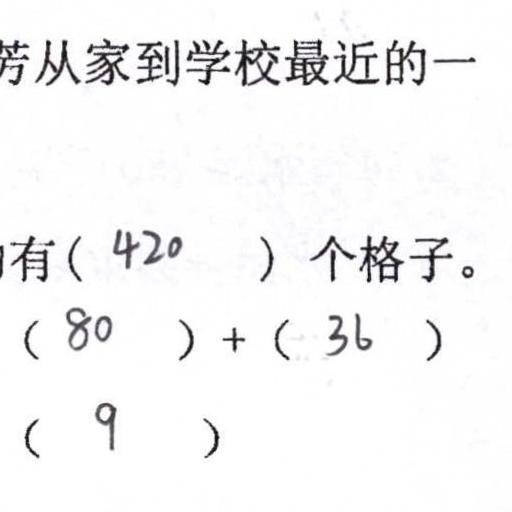ans: (107, 220, 182, 269), (59, 299, 111, 351), (319, 305, 370, 356), (88, 394, 120, 450)
